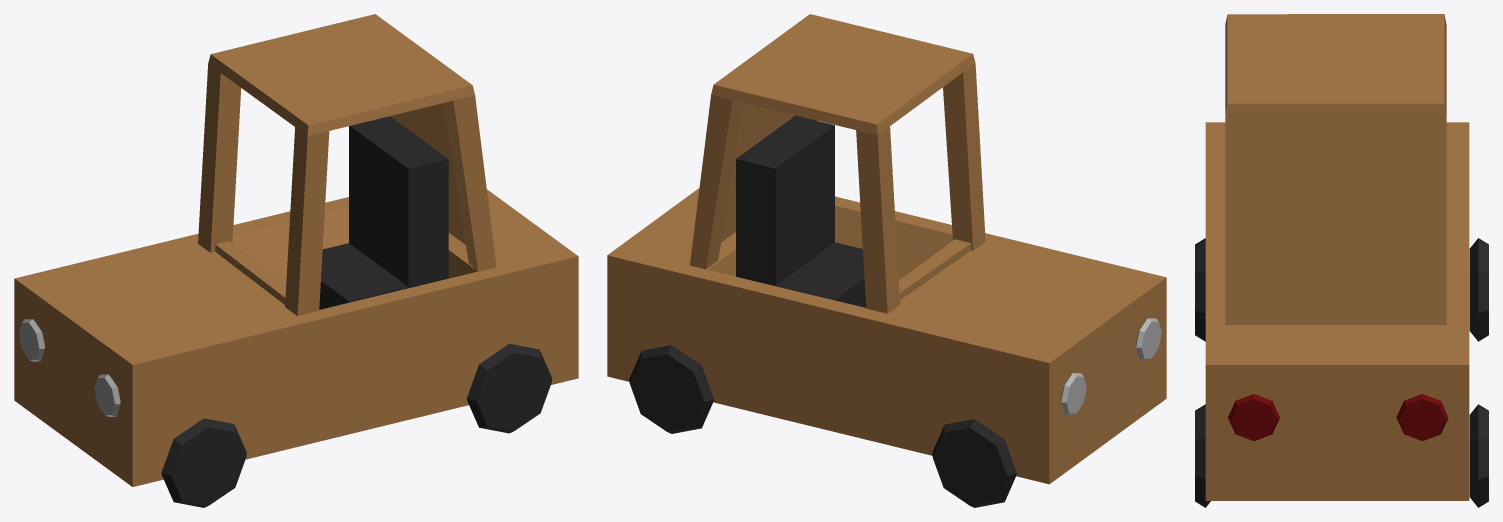
Rendered from Car1.fbx.
3 renders of one model, left to right at view 1: azimuth 30°, elevation 25°; view 2: azimuth 150°, elevation 25°; view 3: azimuth 270°, elevation 25°, orthographic. The views are drawn at different scales.
Visible parts, largest first — view 1: Cube; view 2: Cube; view 3: Cube.
Boxes of the visible parts, <box> form: Cube: <box>14,14,578,507</box>; Cube: <box>607,14,1166,507</box>; Cube: <box>1195,14,1488,507</box>.
Size of the model in its own units: 631 by 457 by 314.
